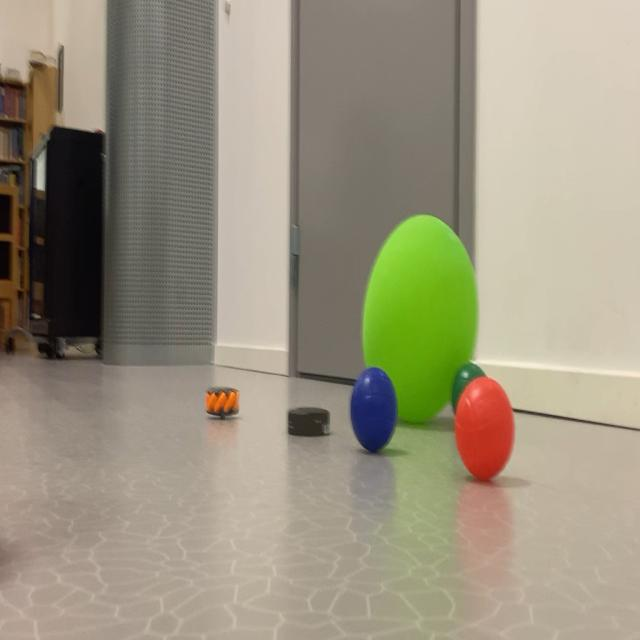7: (446, 374, 532, 524)
green ball: (346, 368, 415, 504)
red ball: (444, 346, 487, 410)
